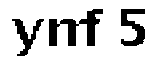5: (116, 4, 150, 55)
f: (81, 7, 105, 51)
m: (46, 16, 93, 53)
y: (11, 15, 44, 58)
